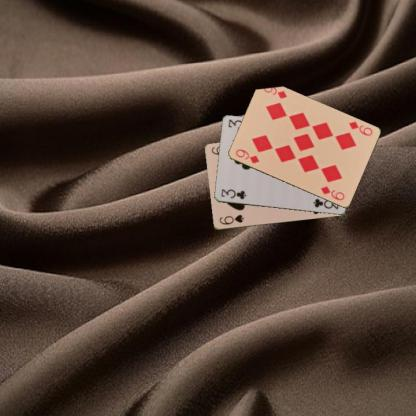3c: (218, 186, 248, 200)
6s: (217, 212, 245, 226)
9d: (233, 146, 260, 165), (346, 118, 373, 137)
